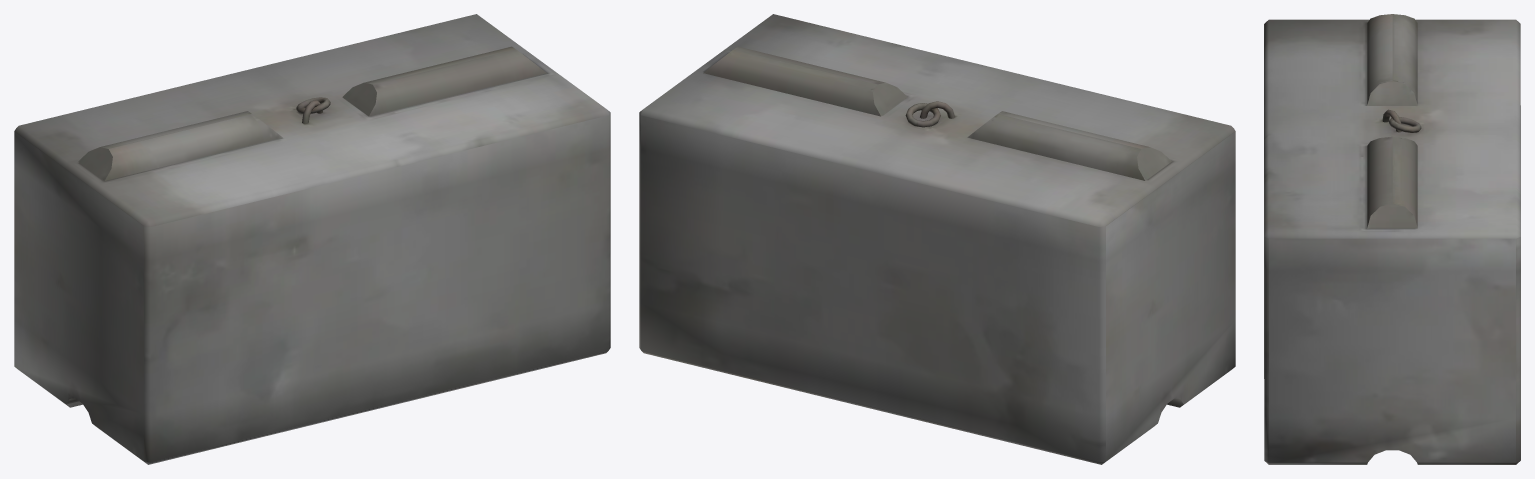
3 views of the same model, side by side, from view 1: azimuth 30°, elevation 25°; view 2: azimuth 150°, elevation 25°; view 3: azimuth 270°, elevation 25° (orthographic). The views are drawn at different scales.
Parts seen in each view (by area): view 1: body0_model0_lod0_mesh0; view 2: body0_model0_lod0_mesh0; view 3: body0_model0_lod0_mesh0.
Boxes of the visible parts, left/top/right/bottom form: body0_model0_lod0_mesh0: left=14, top=14, right=610, bottom=464; body0_model0_lod0_mesh0: left=639, top=14, right=1235, bottom=464; body0_model0_lod0_mesh0: left=1264, top=14, right=1520, bottom=464.
Size of the model in its own units: 152 by 81.63 by 76.01.
1 material, 1 textured.
